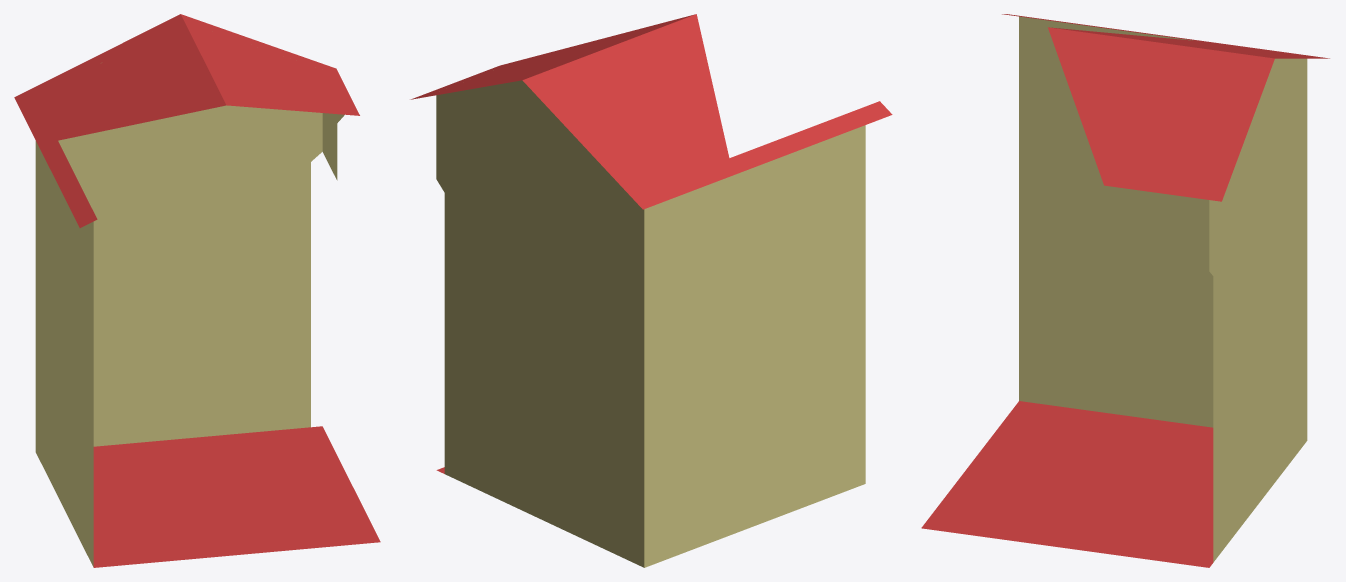
The picture shows the model from 3 angles, left to right: view 1: azimuth 30°, elevation 25°; view 2: azimuth 150°, elevation 25°; view 3: azimuth 270°, elevation 25°; orthographic projection. The views are drawn at different scales.
Size of the model in its own units: 11.42 by 10.57 by 12.79.
